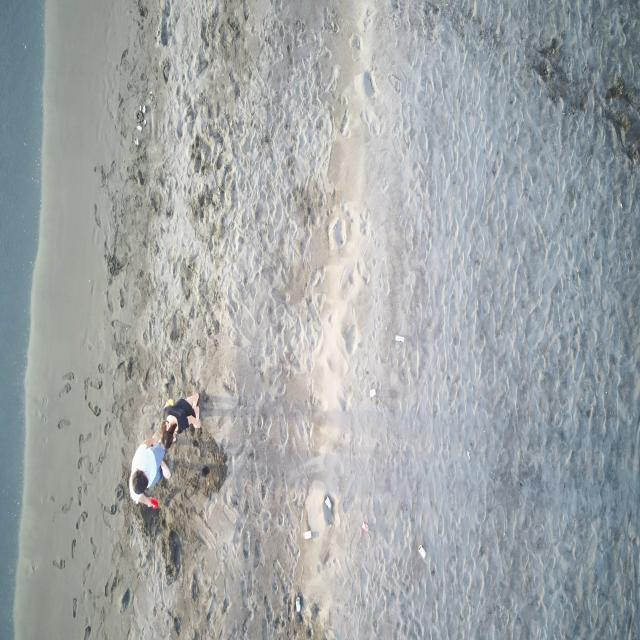tin-and-aluminum-cans: (324, 495, 332, 510), (418, 545, 426, 559), (304, 530, 313, 540), (395, 334, 405, 343), (296, 596, 301, 612), (362, 522, 369, 532), (369, 388, 376, 398)
